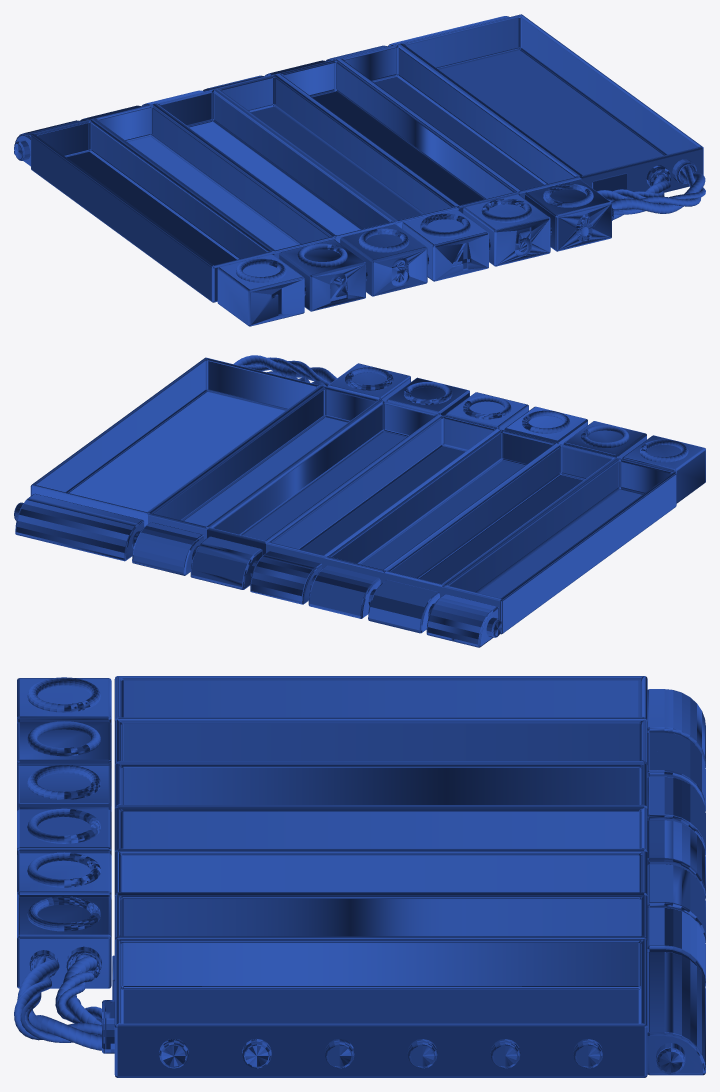
Rendered from BaseMachine2.fbx.
3 renders of one model, top to bottom at view 1: azimuth 30°, elevation 25°; view 2: azimuth 150°, elevation 25°; view 3: azimuth 270°, elevation 25°, orthographic. The views are drawn at different scales.
Visible parts, largest first — view 1: Base; view 2: Base; view 3: Base.
Part boxes in pixels (x1,y1,x2,y2): Base: (14,14,705,326); Base: (14,355,705,647); Base: (14,676,705,1077).
Size of the model in its own units: 7137 by 555 by 5845.
